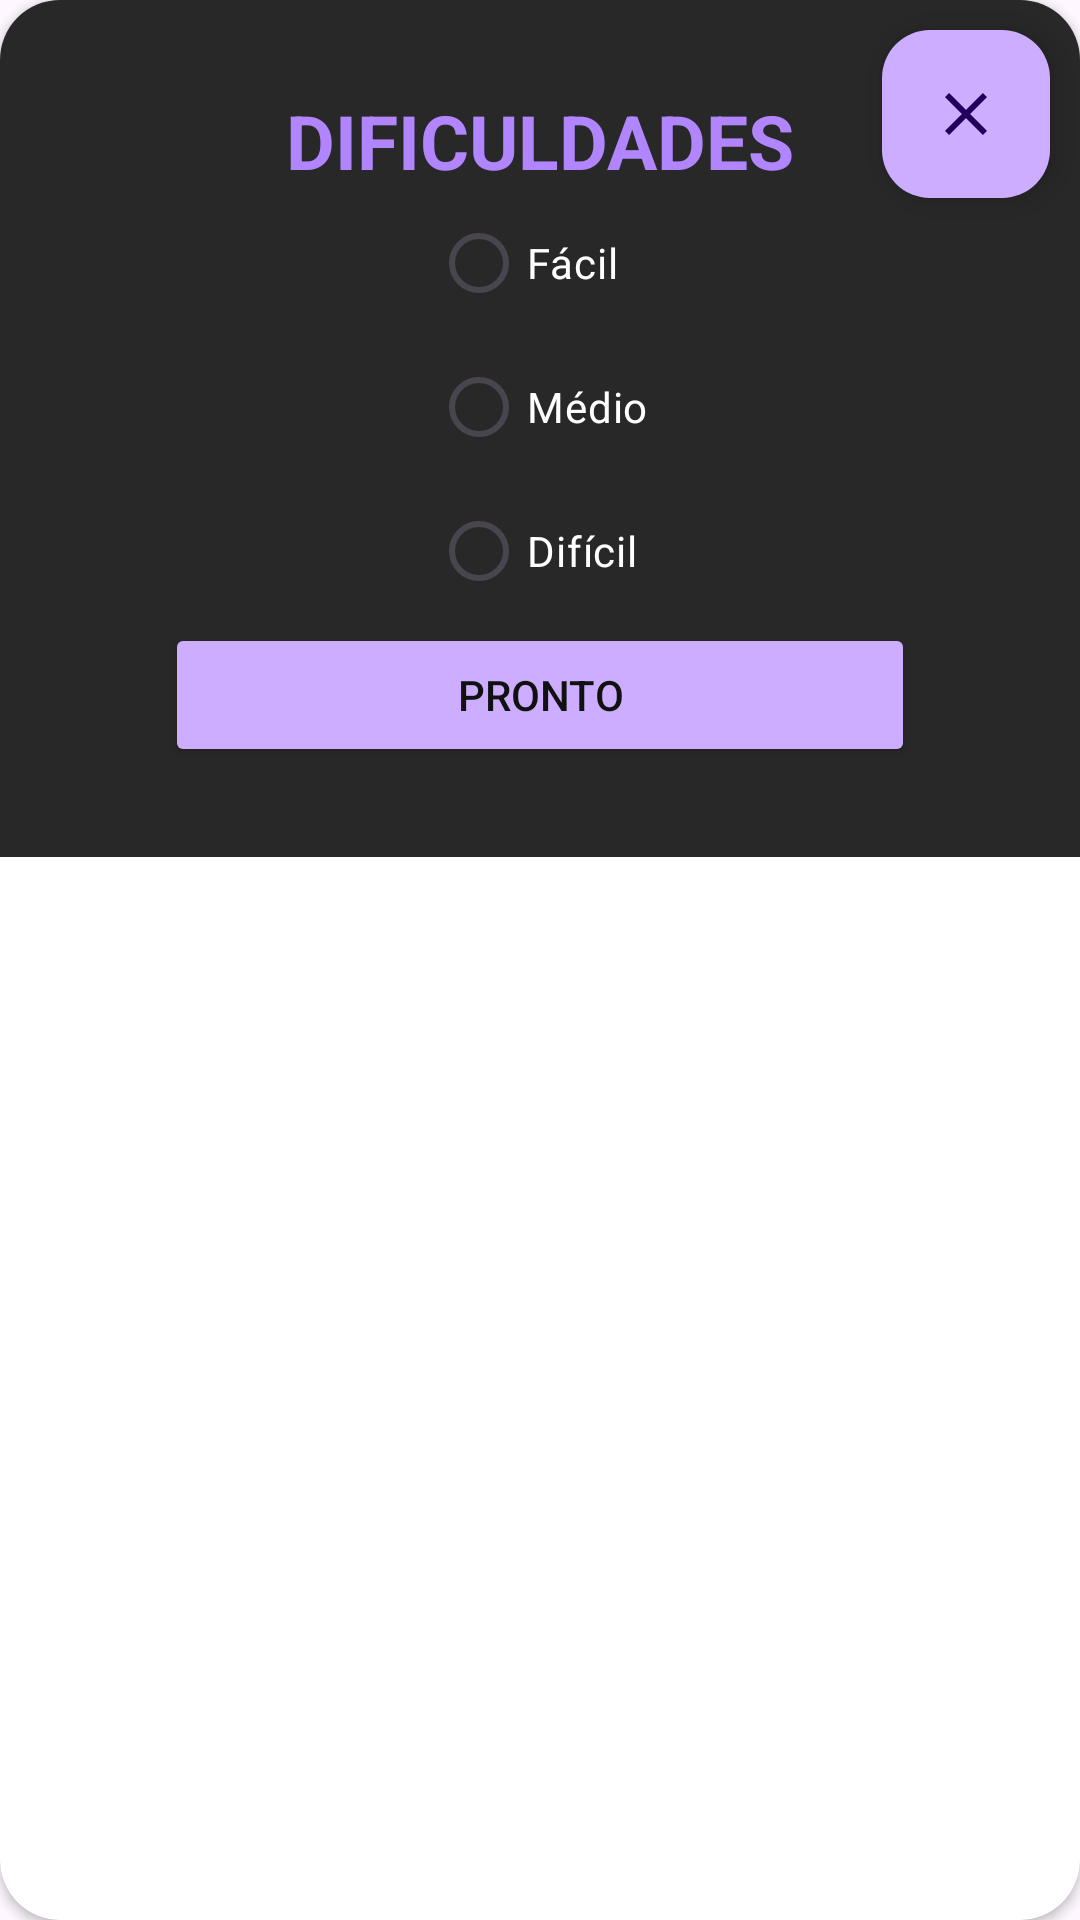

Screen size 1080px×1920px. Icon name, then its center in pixels as [x,y]:
Fechar: [966,114]
